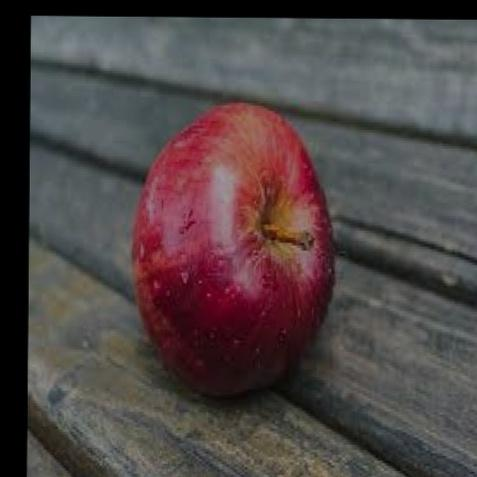red apple: (129, 95, 335, 399)
